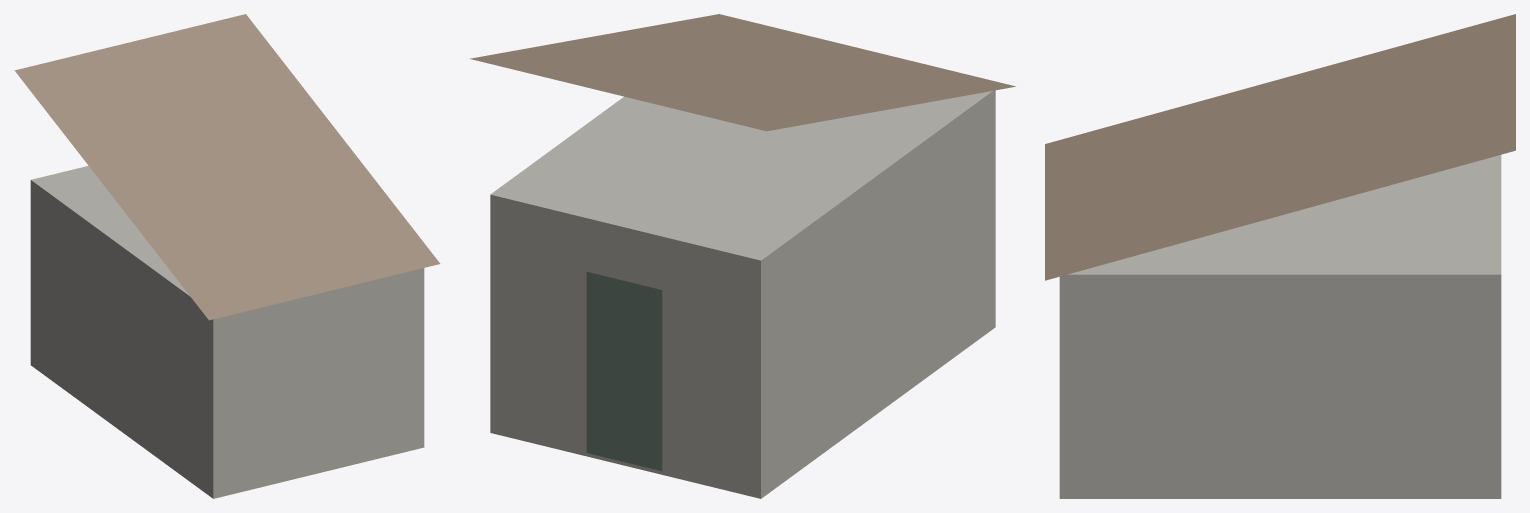
The model's file is recon_1835_north_a4_052__recommended_1835.glb.
3 renders of one model, left to right at view 1: azimuth 30°, elevation 25°; view 2: azimuth 150°, elevation 25°; view 3: azimuth 270°, elevation 25°, orthographic. The views are drawn at different scales.
Visible parts, largest first — view 1: recon_1835_north_a4_052__recommended_1835; view 2: recon_1835_north_a4_052__recommended_1835; view 3: recon_1835_north_a4_052__recommended_1835.
Part boxes in pixels (x1,y1,x2,y2): recon_1835_north_a4_052__recommended_1835: (14, 14, 440, 498); recon_1835_north_a4_052__recommended_1835: (469, 14, 1015, 498); recon_1835_north_a4_052__recommended_1835: (1045, 14, 1515, 498).
Size of the model in its own units: 2.68 by 3.24 by 3.9.
